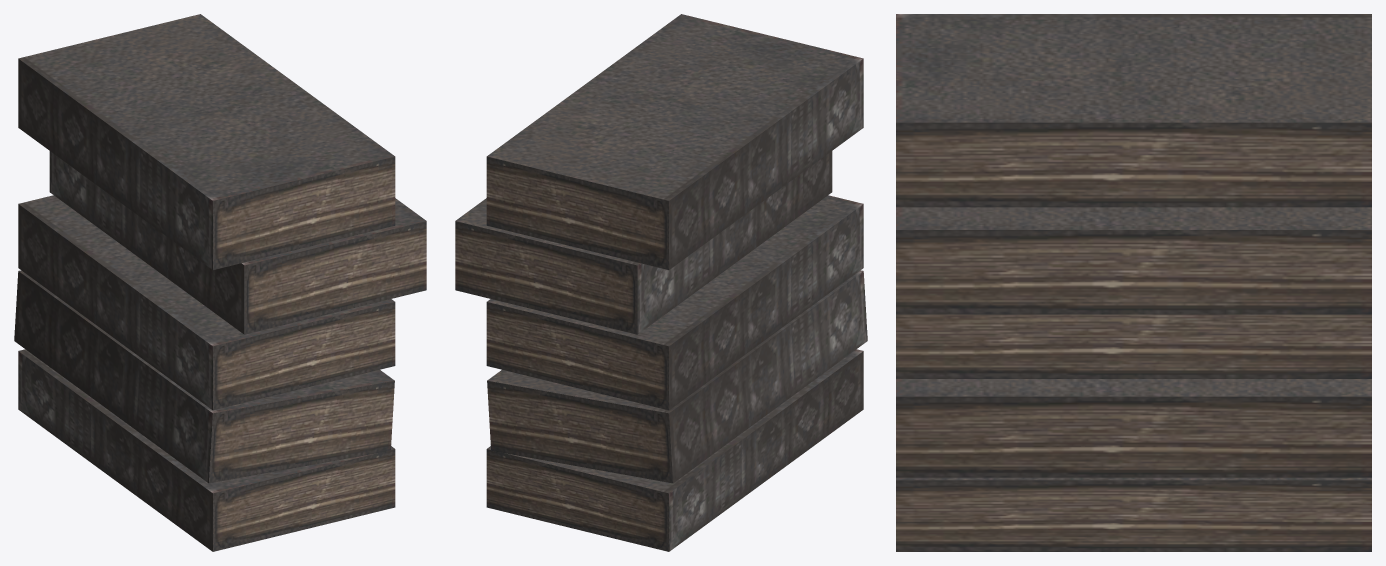
File: p_glo_books_row02_LOD0.obj
3 views of the same model, side by side, from view 1: azimuth 30°, elevation 25°; view 2: azimuth 150°, elevation 25°; view 3: azimuth 270°, elevation 25° (orthographic). The views are drawn at different scales.
Parts seen in each view (by area): view 1: mtl_p_glo_books; view 2: mtl_p_glo_books; view 3: mtl_p_glo_books.
Boxes of the visible parts, <box> form: mtl_p_glo_books: <box>14,14,426,551</box>; mtl_p_glo_books: <box>455,14,867,551</box>; mtl_p_glo_books: <box>896,14,1371,551</box>.
Size of the model in its own units: 16.57 by 25.5 by 25.63.
